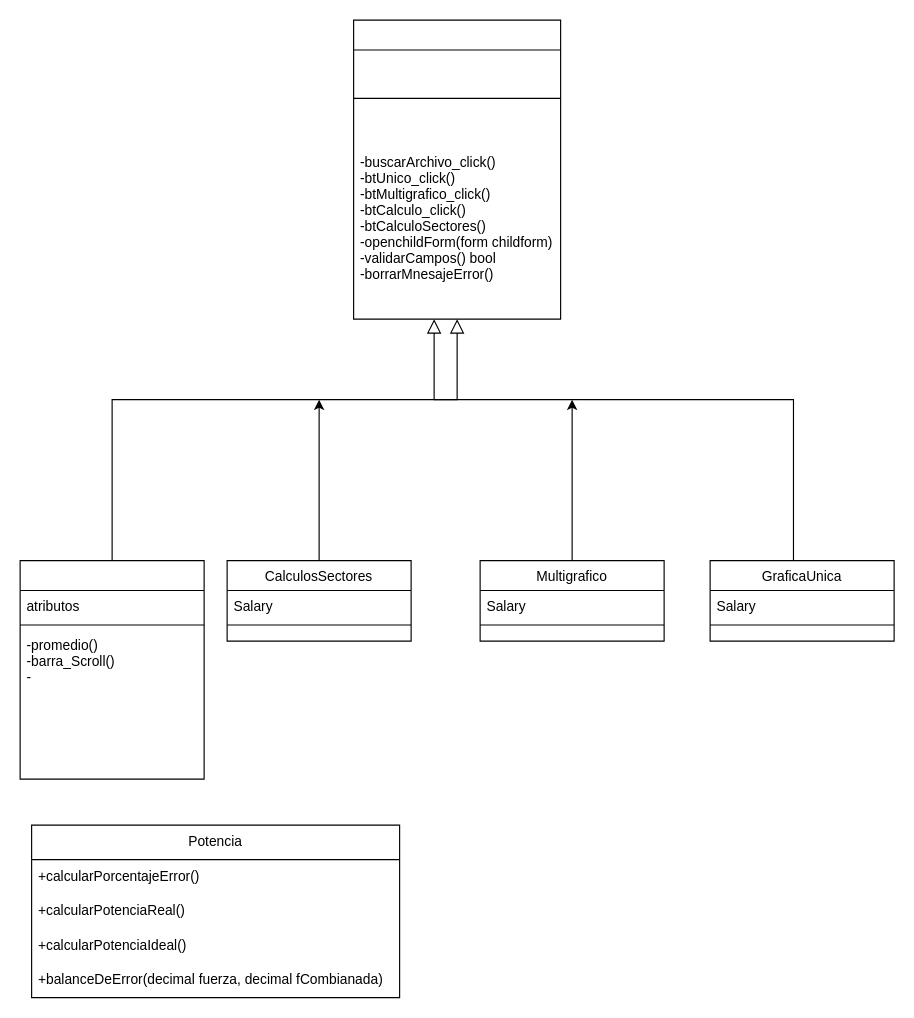
Image size: 914x1018. Some labels were removed from this diagram. Here are the shapes that lost their labels. From the top down, the box of each, then its label:
(352, 19, 561, 319): Inicio
(19, 559, 204, 779): CalculosFs
